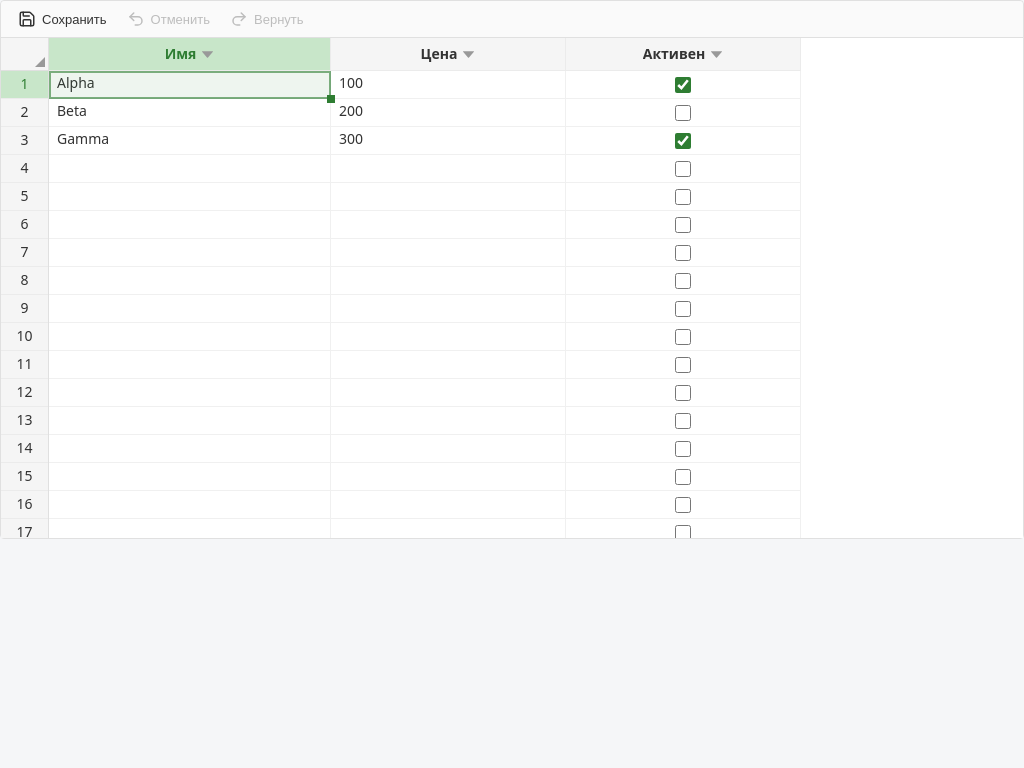
Test case: NativeTable: лейаут (onLayoutChange) › кнопки undo/redo отражают изменения данных
# Правка данных → undo активен, redo нет
Double-click the element showing "Alpha" at (190, 85), box [49,71,331,99]
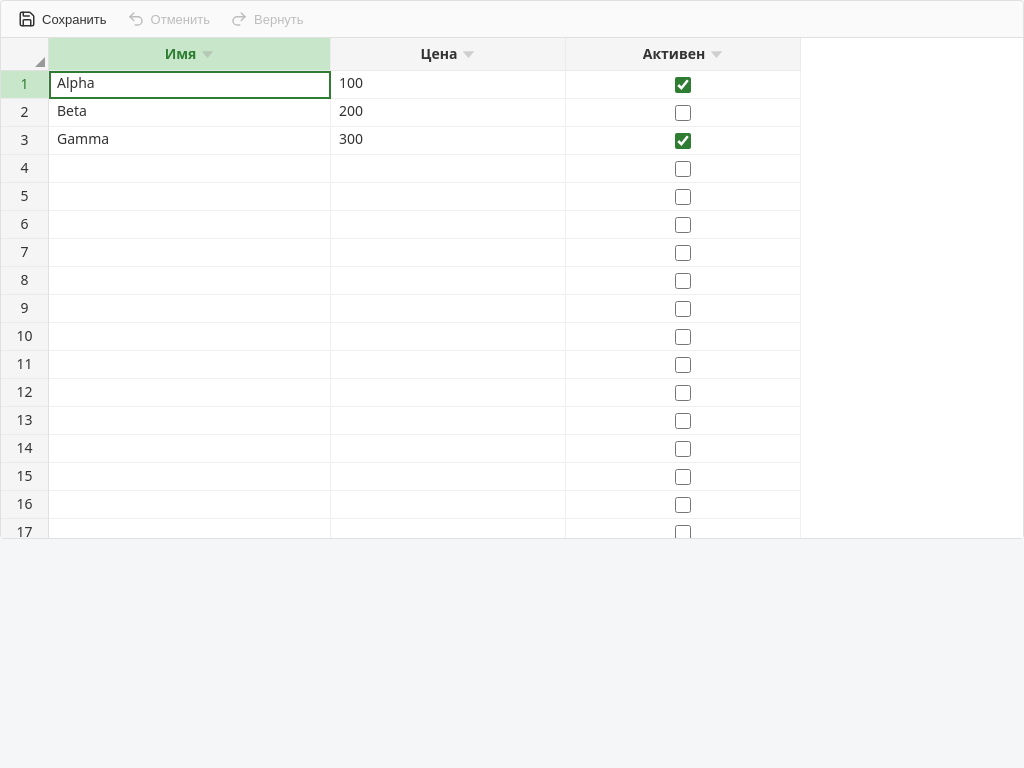
Replace the text in the text box with class "nt-editor--textarea" with "New" at (190, 85), box [49,71,331,99]
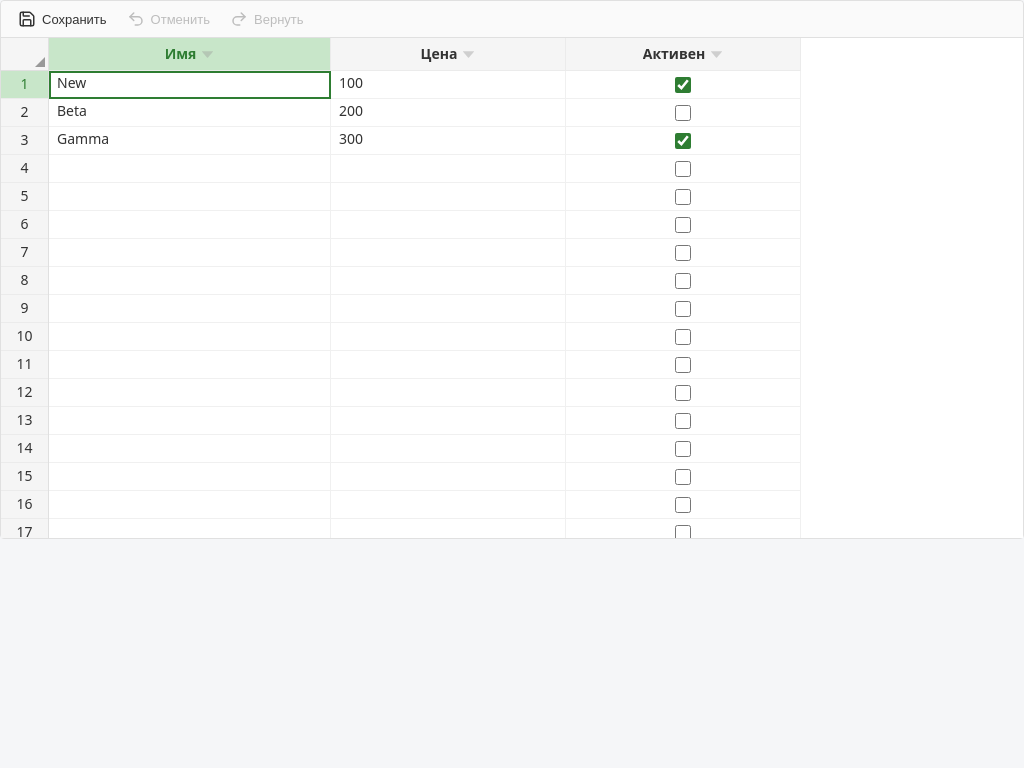
Press Enter in the text box with class "nt-editor--textarea", box [49,71,331,99]
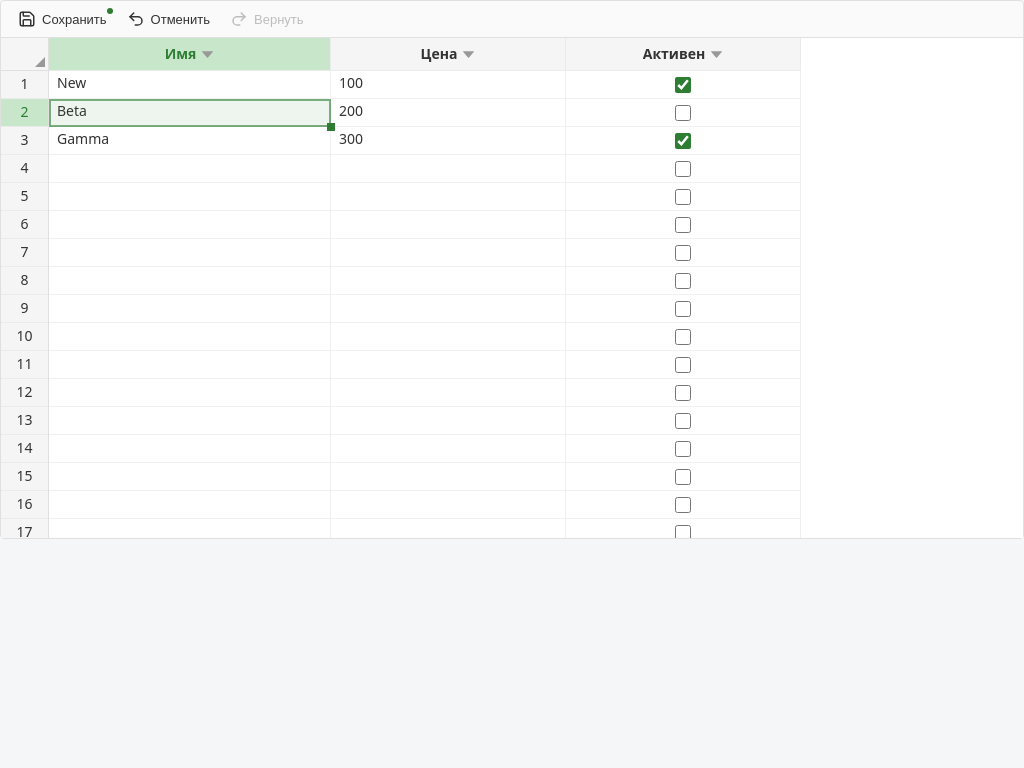
Check: the button "Вернуть" is disabled, box [221,5,312,33]
Check: the button "Отменить" is enabled
# undo → наоборот
Click the button "Отменить" at (168, 19), box [118,5,219,33]
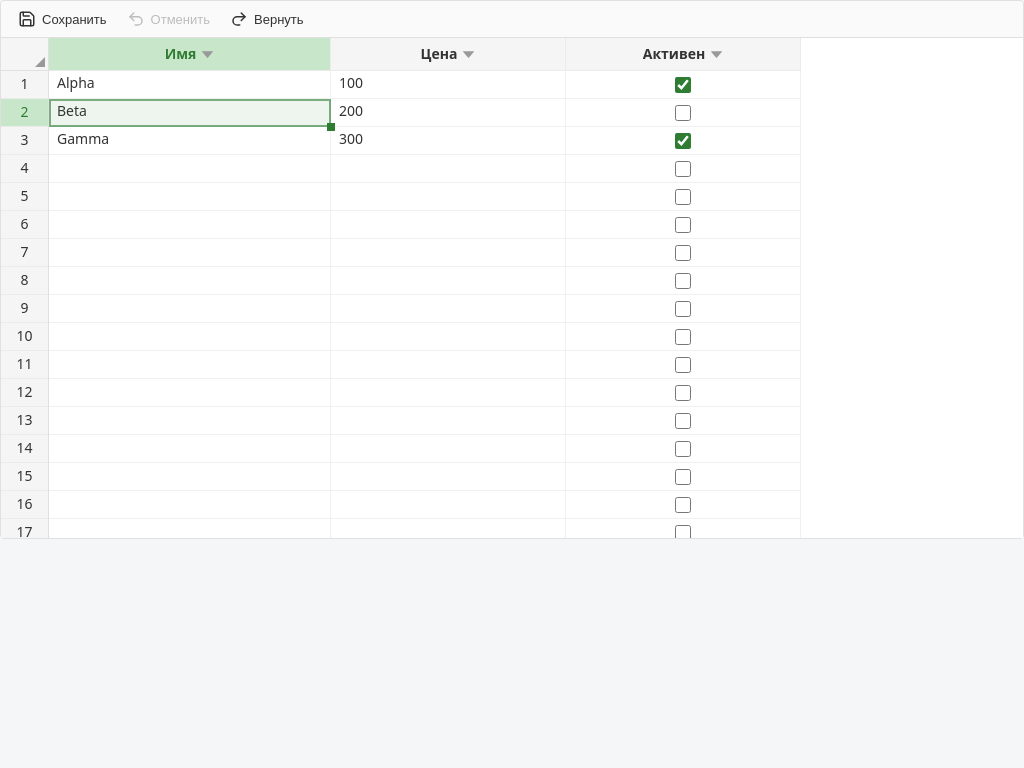
Check: the button "Отменить" is disabled, box [118,5,219,33]
Check: the button "Вернуть" is enabled
# redo → как после правки
Click the button "Вернуть" at (267, 19), box [221,5,312,33]
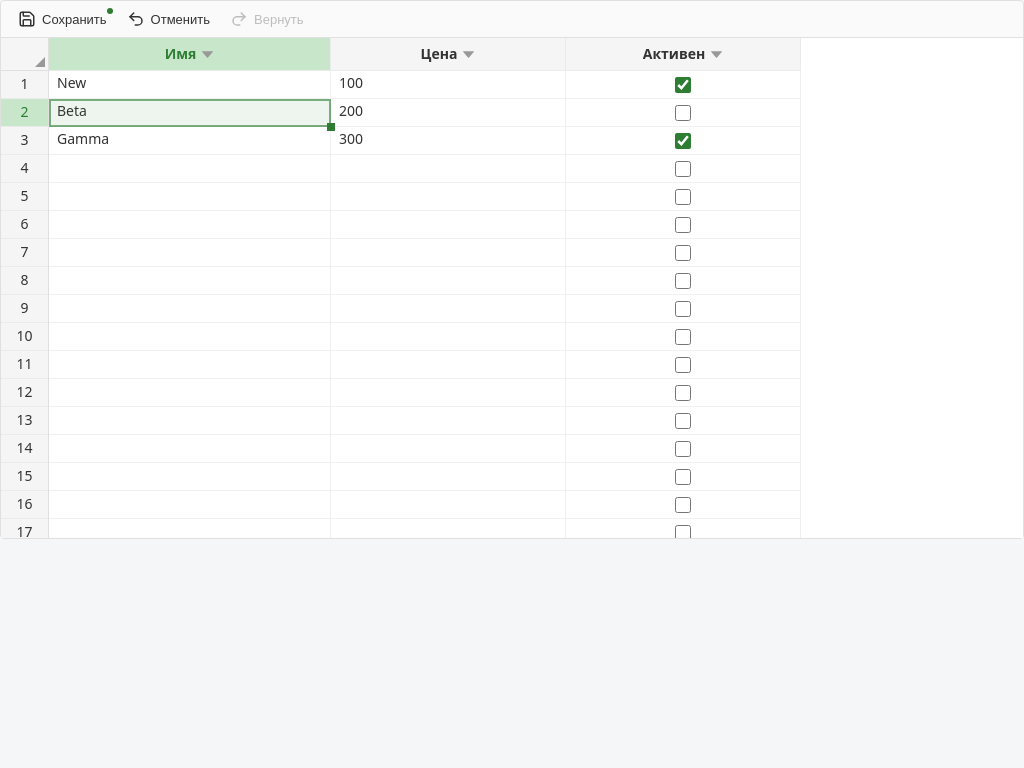
Check: the button "Отменить" is enabled, box [118,5,219,33]
Check: the button "Вернуть" is disabled, box [221,5,312,33]
